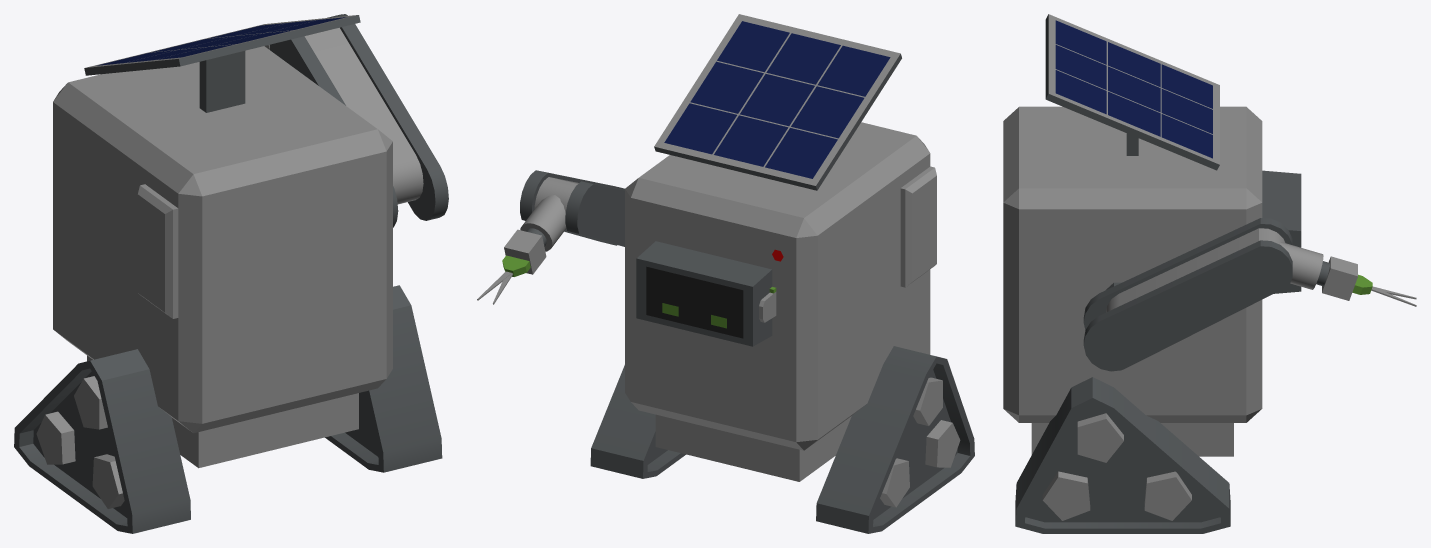
Rendered from RobotGuy 1.fbx.
3 renders of one model, left to right at view 1: azimuth 30°, elevation 25°; view 2: azimuth 150°, elevation 25°; view 3: azimuth 270°, elevation 25°, orthographic. The views are drawn at different scales.
Parts seen in each view (by area): view 1: Cube.304; view 2: Cube.304; view 3: Cube.304.
Boxes of the visible parts, bbox=[...] form: Cube.304: bbox=[14, 14, 448, 533]; Cube.304: bbox=[477, 14, 974, 533]; Cube.304: bbox=[1003, 14, 1416, 533].
Size of the model in its own units: 125 by 153 by 139.
